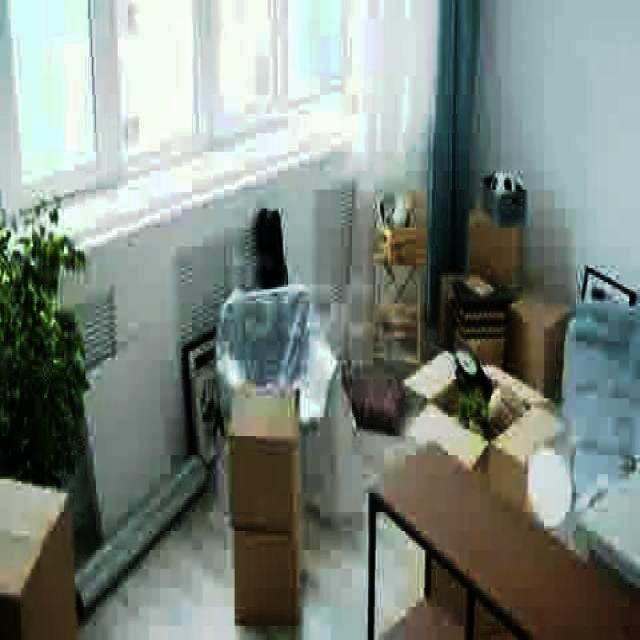Box: (228, 394, 302, 504), (238, 517, 308, 622), (508, 292, 570, 385), (468, 214, 520, 278)
